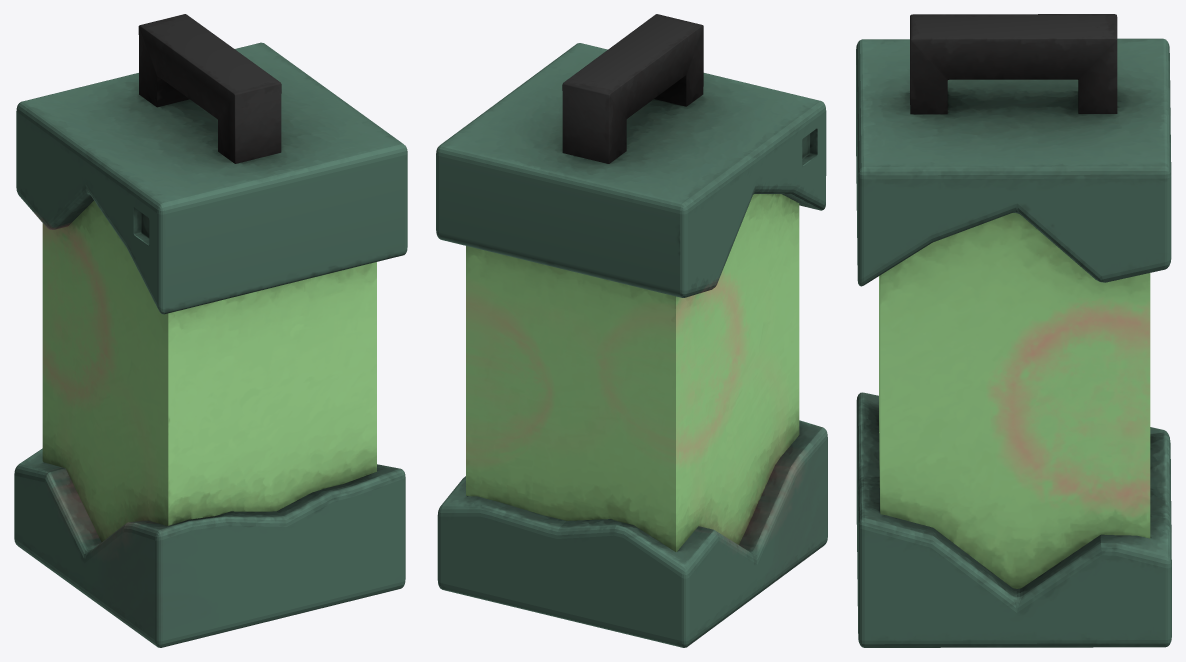
File: PortableLamp.fbx
3 views of the same model, side by side, from view 1: azimuth 30°, elevation 25°; view 2: azimuth 150°, elevation 25°; view 3: azimuth 270°, elevation 25° (orthographic). The views are drawn at different scales.
Parts seen in each view (by area): view 1: LampPortable; view 2: LampPortable; view 3: LampPortable.
Boxes of the visible parts, box(x1,y1,x2,y2) form: LampPortable: box(14, 14, 407, 647); LampPortable: box(436, 14, 827, 647); LampPortable: box(856, 14, 1171, 647).
Size of the model in its own units: 2798 by 5417 by 2781.
